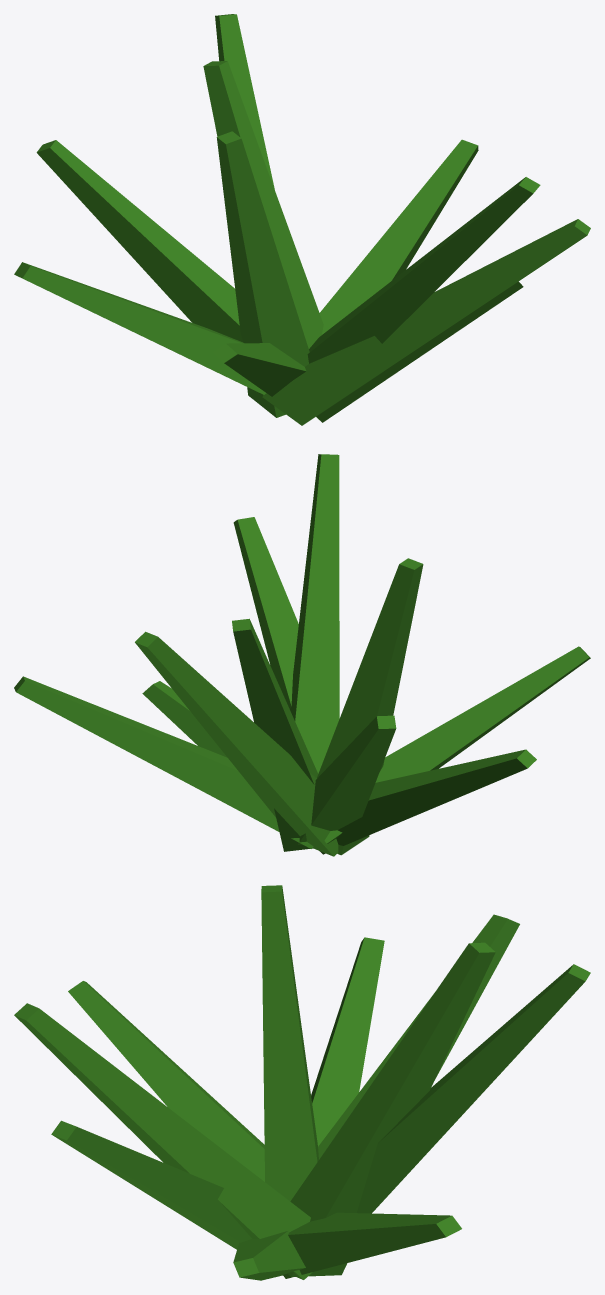
The model's file is Grass_1.fbx.
The picture shows the model from 3 angles, top to bottom: view 1: azimuth 30°, elevation 25°; view 2: azimuth 150°, elevation 25°; view 3: azimuth 270°, elevation 25°; orthographic projection. The views are drawn at different scales.
Parts seen in each view (by area): view 1: Grass 1; view 2: Grass 1; view 3: Grass 1.
Boxes of the visible parts, bbox=[...] form: Grass 1: bbox=[14, 14, 590, 425]; Grass 1: bbox=[14, 454, 590, 856]; Grass 1: bbox=[14, 885, 590, 1280].
Bounding box in the file's own units: 0.3287 × 0.1938 × 0.2942.
